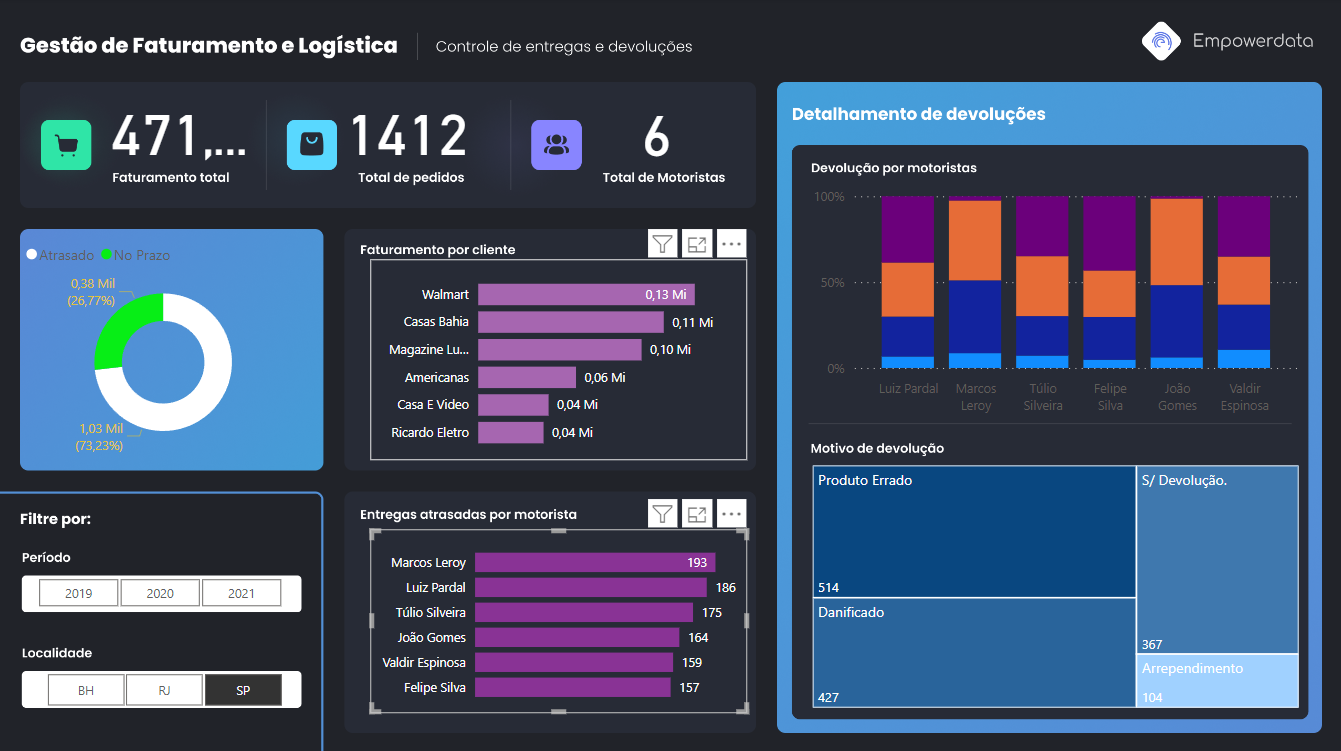

The page's visual inventory and layout, read from the dashboard file:
{"tool":"powerbi","page":{"name":"Página 1","canvas":[1280,720],"ordinal":0},"visuals":[{"type":"card","fields":{"Values":["BaseLogistica.R$ Faturados"]},"box":[97.6,85.7,147.6,76.2],"z":0},{"type":"card","fields":{"Values":["BaseLogistica.Nº Pedido"]},"box":[317.8,85.7,141.6,76.2],"z":1000},{"type":"card","fields":{"Values":["BaseLogistica.Motorista"]},"box":[539.1,75,173.8,100],"z":2000},{"type":"clusteredBarChart","title":"Faturamento por Cliente","fields":{"Y":["BaseLogistica.R$ Faturados"],"Category":["BaseLogistica.Cliente"]},"box":[353.5,248.7,359.4,191.6],"z":3000},{"type":"donutChart","title":"Pedidos por Status","fields":{"Category":["BaseLogistica.Status"],"Y":["BaseLogistica.Nº Pedido"]},"box":[20.2,223.7,272.5,216.6],"z":4000},{"type":"clusteredBarChart","title":"Entregas Atrasadas  por Motoristas","fields":{"Category":["BaseLogistica.Motorista"],"Y":["BaseLogistica.Nº Pedido"]},"box":[353.5,505.8,359.4,174.9],"z":5000},{"type":"treemap","fields":{"Group":["BaseLogistica.Mot. Devolução"],"Values":["BaseLogistica.Nº Pedido"]},"box":[770,440.3,472.5,240.4],"z":6000},{"type":"hundredPercentStackedColumnChart","fields":{"Category":["BaseLogistica.Motorista"],"Y":["BaseLogistica.Nº Pedido"],"Series":["BaseLogistica.Mot. Devolução"]},"box":[770,174.9,472.5,228.5],"z":7000},{"type":"slicer","fields":{"Values":["BaseLogistica.Data Emissão Pedido.Variation.Hierarquia de datas.Ano"]},"box":[11.9,546.2,280.9,39.3],"z":8000},{"type":"slicer","fields":{"Values":["BaseLogistica.Destino"]},"box":[20.2,636.7,272.5,44],"z":9000}]}

Visuals, with their boxes in screenshot pixels (x1, y1, x2, y2), scaled from the page's 1280x720 canvas onto the 1341x751 screenshot:
card - BaseLogistica.R$ Faturados: 102:89:257:169
card - BaseLogistica.Nº Pedido: 333:89:481:169
card - BaseLogistica.Motorista: 565:78:747:183
"Faturamento por Cliente" clusteredBarChart: 370:259:747:459
"Pedidos por Status" donutChart: 21:233:307:459
"Entregas Atrasadas  por Motoristas" clusteredBarChart: 370:528:747:710
treemap - BaseLogistica.Mot. Devolução x BaseLogistica.Nº Pedido: 807:459:1302:710
hundredPercentStackedColumnChart - BaseLogistica.Motorista x BaseLogistica.Nº Pedido: 807:182:1302:421
slicer - BaseLogistica.Data Emissão Pedido.Variation.Hierarquia de datas.Ano: 12:570:307:611
slicer - BaseLogistica.Destino: 21:664:307:710
